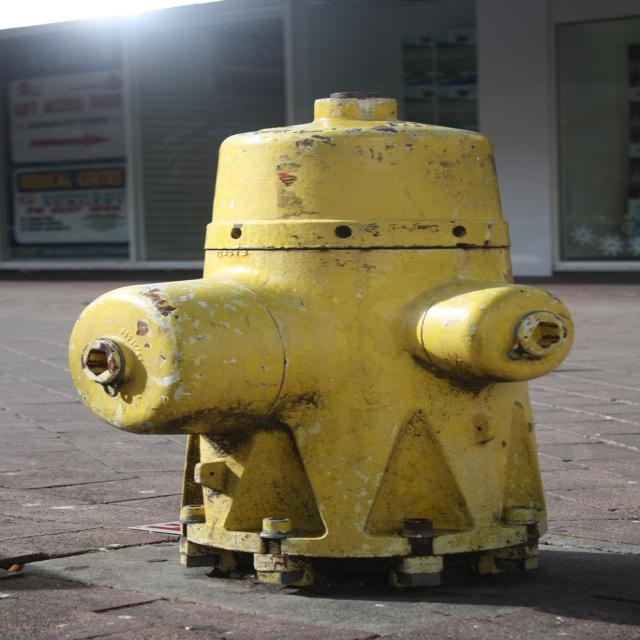fire_hydrant: (68, 92, 575, 590)
